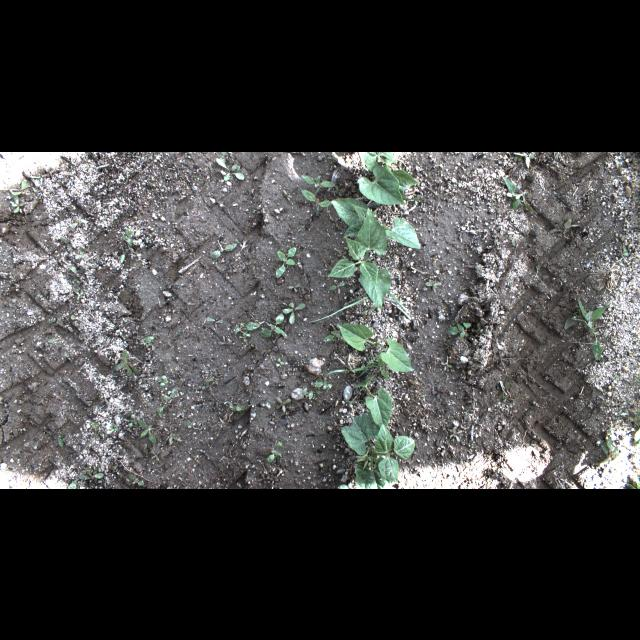crop: (328, 206, 390, 310), (342, 409, 414, 487), (332, 196, 422, 248), (338, 324, 412, 372), (358, 152, 420, 204), (352, 374, 392, 431)
weed: (308, 290, 412, 322), (564, 298, 608, 360), (503, 175, 535, 213), (115, 350, 142, 376), (260, 312, 286, 338), (216, 156, 244, 180), (326, 364, 374, 378), (548, 216, 578, 238), (596, 436, 618, 466), (276, 246, 296, 278), (301, 189, 333, 209), (282, 300, 306, 326), (444, 322, 482, 338), (236, 321, 260, 341), (138, 419, 156, 443), (322, 324, 348, 340), (302, 174, 336, 186), (209, 243, 237, 257), (268, 441, 284, 464), (8, 180, 28, 197), (79, 467, 103, 481), (501, 381, 517, 402), (157, 394, 173, 414), (514, 152, 534, 166), (120, 227, 134, 246), (66, 474, 85, 488), (12, 193, 24, 213), (70, 215, 88, 228), (626, 472, 640, 488), (300, 390, 322, 400), (273, 397, 291, 409), (376, 357, 386, 377), (206, 317, 224, 328), (227, 401, 246, 411), (431, 384, 444, 398), (215, 334, 232, 344), (130, 472, 144, 484), (145, 332, 159, 344), (450, 426, 460, 442), (426, 280, 442, 290), (313, 380, 333, 388), (156, 377, 170, 388), (328, 282, 346, 290), (73, 288, 85, 300), (130, 414, 142, 426), (361, 304, 379, 312), (287, 282, 301, 292), (57, 431, 65, 447), (440, 361, 452, 371), (204, 380, 216, 390), (461, 354, 473, 364), (326, 152, 339, 160), (337, 249, 347, 259), (394, 310, 404, 320), (168, 432, 176, 444), (284, 188, 292, 200), (334, 183, 342, 195), (439, 337, 448, 347), (621, 246, 629, 256), (462, 369, 470, 379), (634, 412, 638, 430), (48, 338, 64, 342), (189, 421, 197, 429), (91, 422, 101, 428), (633, 373, 639, 382), (110, 426, 118, 432), (260, 402, 268, 408), (277, 358, 283, 366), (331, 186, 337, 194), (614, 374, 620, 381), (562, 364, 568, 370)
